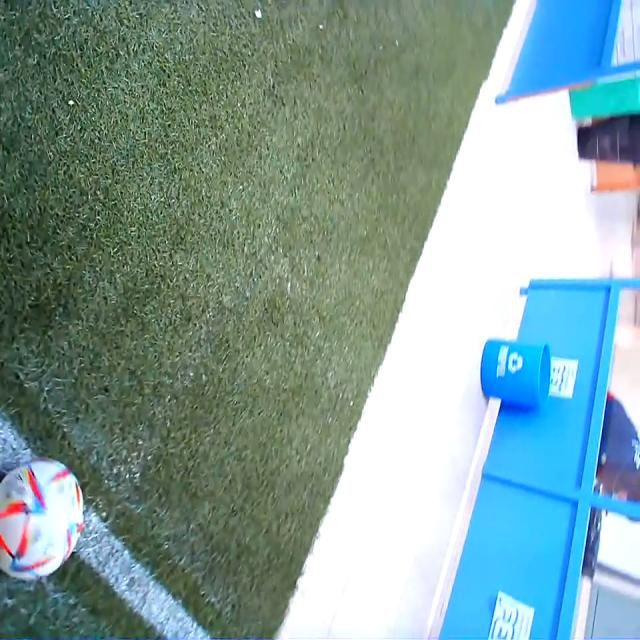ball: (1, 458, 84, 581)
